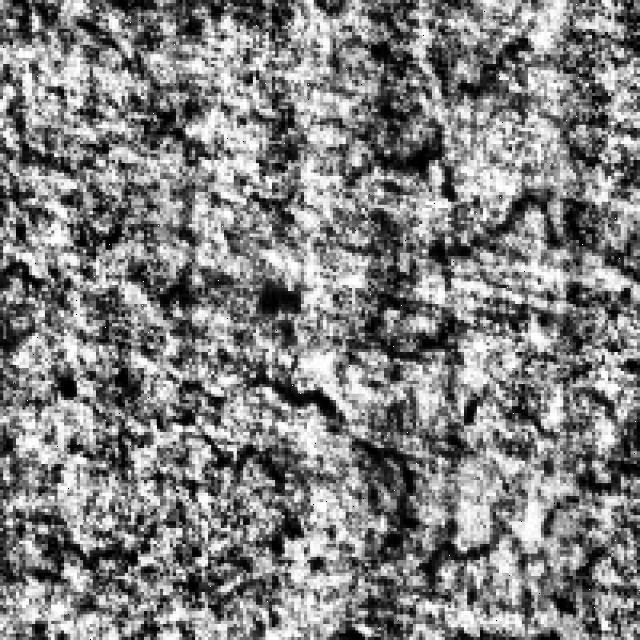Pitted_Surface: (179, 371, 634, 586), (346, 118, 602, 362)
